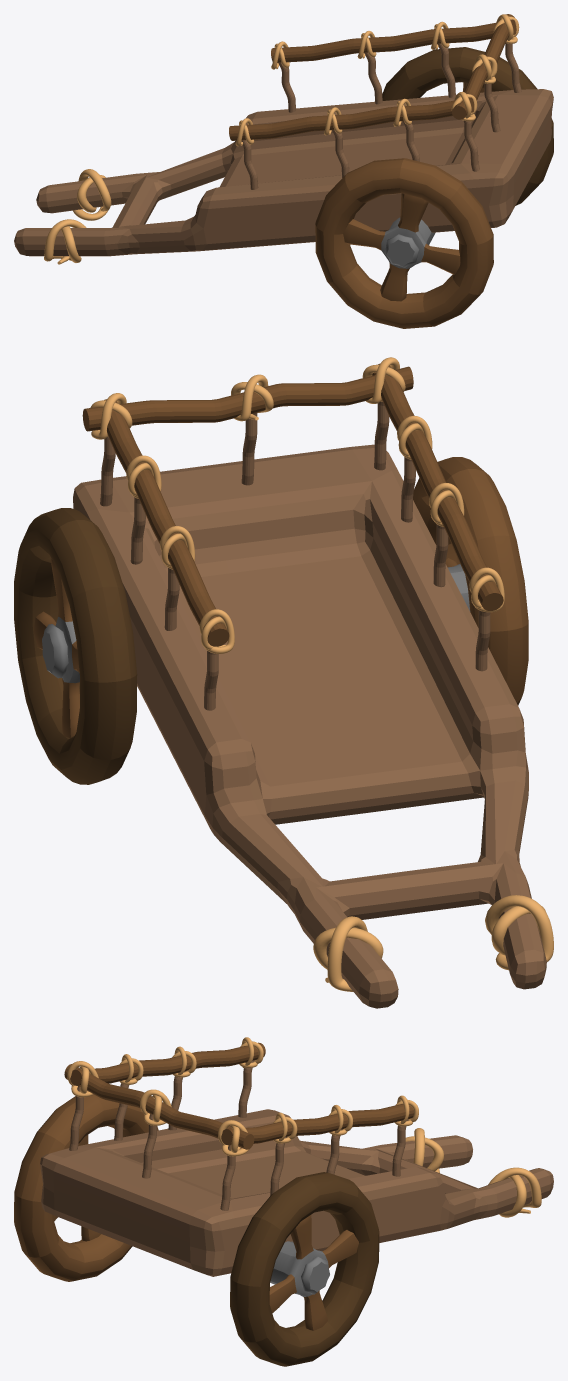
The model's file is env-car2.fbx.
The picture shows the model from 3 angles, top to bottom: view 1: azimuth 30°, elevation 25°; view 2: azimuth 150°, elevation 25°; view 3: azimuth 270°, elevation 25°; orthographic projection. The views are drawn at different scales.
Visible parts, largest first — view 1: Plane.098, Circle.088; view 2: Plane.098, Circle.088; view 3: Plane.098, Circle.088.
Boxes of the visible parts, <box> form: Plane.098: <box>14,14,553,264</box>; Circle.088: <box>315,47,553,328</box>; Plane.098: <box>73,357,553,1008</box>; Circle.088: <box>14,457,528,784</box>; Plane.098: <box>40,1037,553,1276</box>; Circle.088: <box>14,1094,379,1366</box>.
Bounding box in the file's own units: 363 × 177 × 352.
